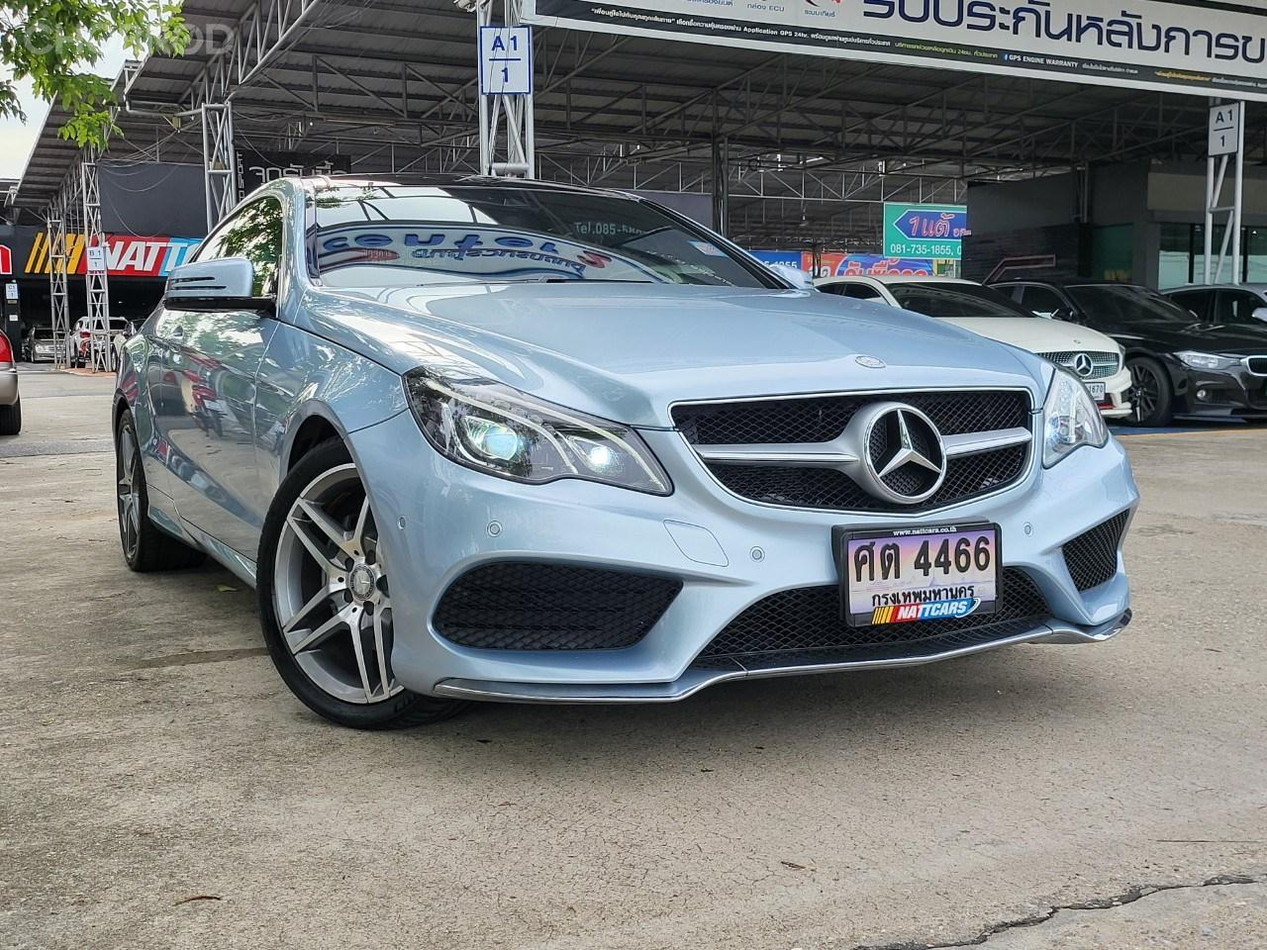license-plate: (831, 519, 1009, 636), (1079, 377, 1113, 403)
